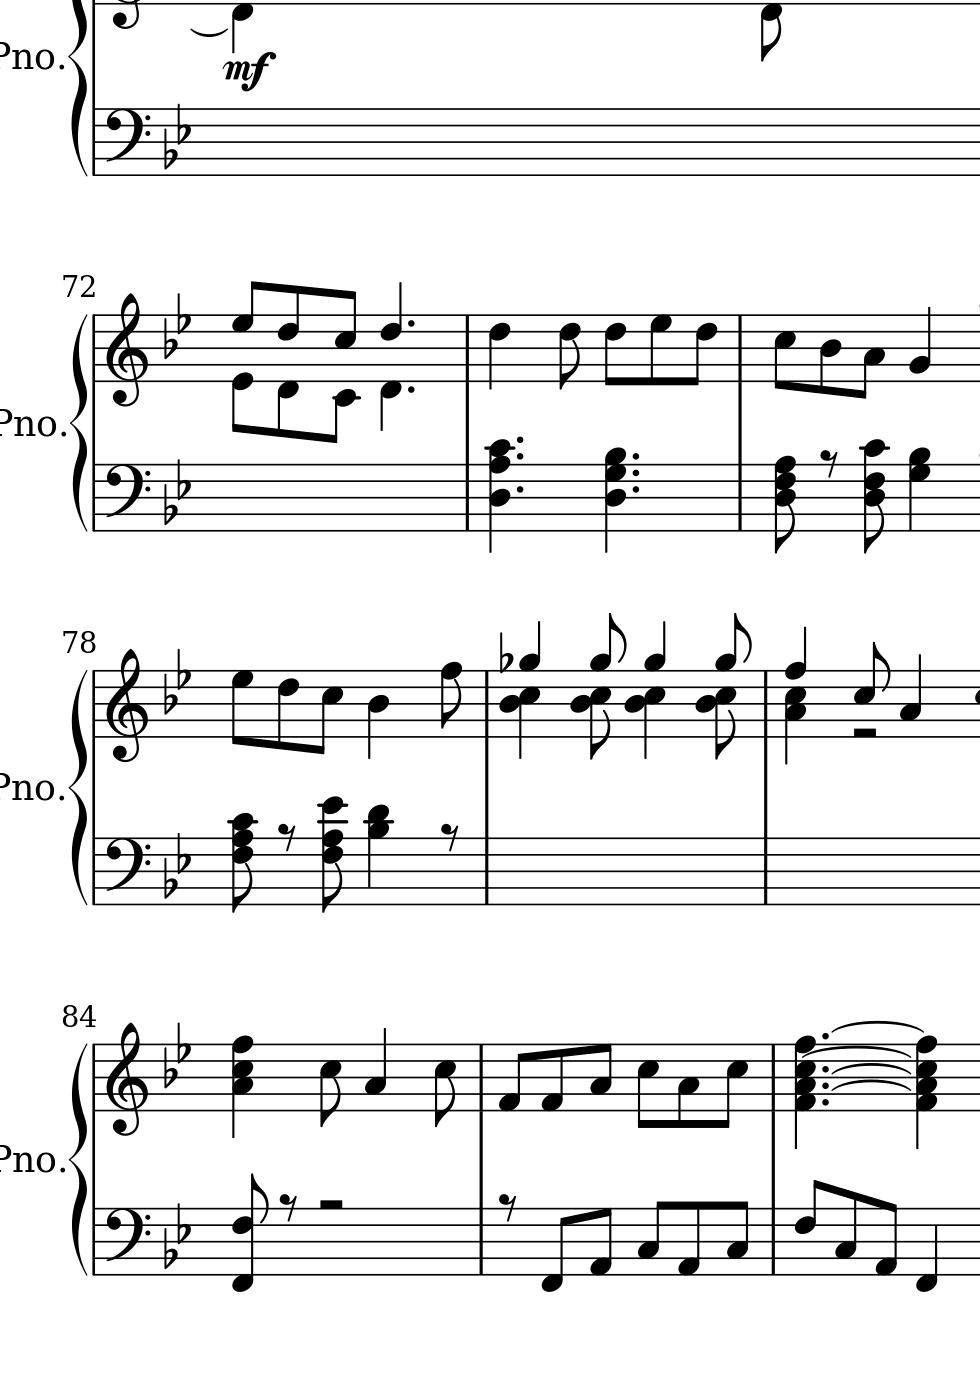2: (77, 273, 97, 300)
4: (78, 1002, 97, 1030)
4_-1: (913, 1206, 939, 1294)
4_-1_6: (377, 282, 405, 432)
4_2: (908, 304, 933, 384)
4_3: (897, 652, 923, 739), (363, 1027, 387, 1112)
4_4: (365, 669, 390, 762)
4_4th: (791, 1027, 819, 1146), (914, 1027, 939, 1148)
4_6: (486, 314, 510, 391)
4_7_9: (907, 445, 932, 536)
4_9_11: (363, 805, 395, 908)
4_th: (602, 442, 626, 555), (230, 1033, 253, 1139)
7: (62, 271, 78, 301), (62, 627, 78, 655)
8: (78, 627, 97, 655), (62, 1002, 78, 1029)
8_-1: (539, 1206, 571, 1295)
8_-1_6: (230, 1173, 270, 1293), (275, 281, 303, 436)
8_-2_5: (325, 288, 357, 445)
8_0_7: (229, 280, 261, 435)
8_1: (497, 1041, 526, 1113), (675, 1200, 701, 1278), (538, 1042, 565, 1115), (587, 1206, 614, 1278), (873, 1199, 898, 1277)
8_3: (852, 313, 885, 402), (635, 1200, 667, 1276), (832, 1189, 858, 1277), (675, 1042, 700, 1130), (724, 1199, 749, 1277), (588, 1042, 612, 1113)
8_4: (817, 313, 842, 396)
8_5: (852, 641, 889, 745), (717, 1041, 748, 1131), (312, 669, 343, 756), (317, 1041, 342, 1128), (432, 1042, 456, 1128), (635, 1042, 658, 1131), (772, 313, 797, 392)
8_6: (792, 1176, 824, 1277), (687, 312, 719, 387), (275, 668, 299, 752), (557, 312, 582, 390), (602, 312, 627, 387)
8_7: (229, 668, 253, 747), (648, 312, 672, 386)
8_8: (439, 661, 463, 739)
8_th: (315, 795, 349, 913), (856, 437, 889, 554), (226, 808, 258, 912), (771, 454, 797, 555)
B_F: (161, 290, 192, 359), (161, 1201, 192, 1271), (161, 647, 192, 716), (161, 1020, 192, 1089), (162, 102, 192, 170), (162, 457, 191, 527), (162, 832, 191, 900)
Brace: (67, 667, 89, 909), (68, 1034, 89, 1282), (69, 311, 89, 539), (67, 1, 90, 177)
Fclef: (102, 106, 151, 177), (102, 1206, 151, 1277), (102, 835, 150, 907), (102, 462, 150, 532)
Flat: (497, 629, 514, 676)
Gclef: (104, 646, 148, 764), (104, 290, 147, 408), (104, 1020, 147, 1137)
Pno: (1, 1142, 55, 1177), (1, 407, 56, 440)
Rests2: (848, 723, 881, 743), (315, 1196, 346, 1213)
Rests8: (818, 448, 839, 479), (276, 821, 297, 853), (439, 821, 460, 852), (278, 1192, 298, 1223), (497, 1192, 518, 1222)
Single_barline: (477, 837, 495, 905), (757, 671, 775, 737), (473, 1043, 490, 1111), (478, 671, 495, 738), (731, 464, 748, 530), (472, 1208, 489, 1274), (459, 316, 476, 381), (757, 837, 773, 905), (766, 1043, 782, 1111), (765, 1208, 781, 1275), (459, 464, 475, 530), (732, 316, 747, 382), (88, 1043, 102, 1112), (88, 108, 102, 175), (88, 315, 102, 382), (88, 671, 102, 738), (88, 837, 102, 903), (88, 464, 101, 531), (88, 1209, 101, 1275)
Slur: (834, 1020, 923, 1034), (830, 1078, 913, 1092), (830, 1063, 914, 1075), (186, 25, 229, 38)
dot: (485, 432, 514, 540), (513, 483, 526, 497), (513, 434, 526, 448), (513, 451, 527, 463), (628, 466, 641, 479), (404, 317, 417, 330), (628, 451, 641, 463), (629, 483, 641, 496), (405, 382, 417, 394), (819, 1096, 832, 1108), (818, 1031, 829, 1042), (819, 1064, 830, 1075), (819, 1080, 830, 1091)
mf: (221, 49, 277, 92)
